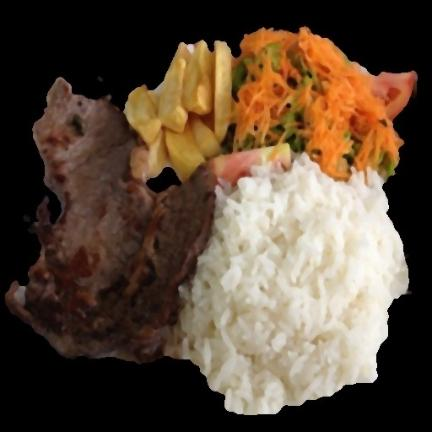carrot: (225, 28, 416, 179)
meat: (6, 78, 215, 362)
potato: (126, 41, 232, 180)
rice: (168, 155, 409, 415)
